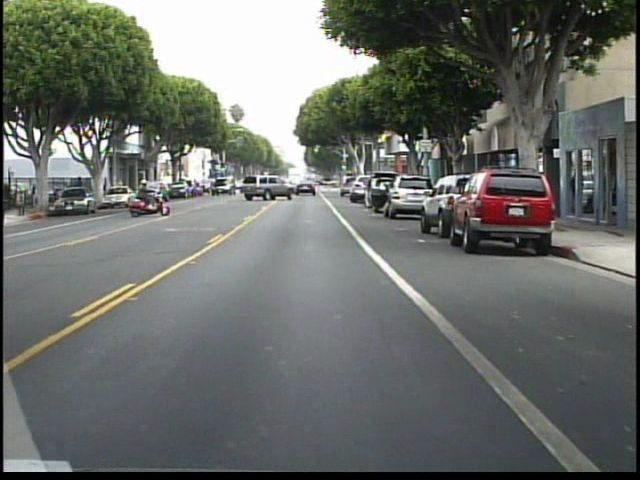person: (137, 178, 161, 213), (75, 171, 92, 208)
